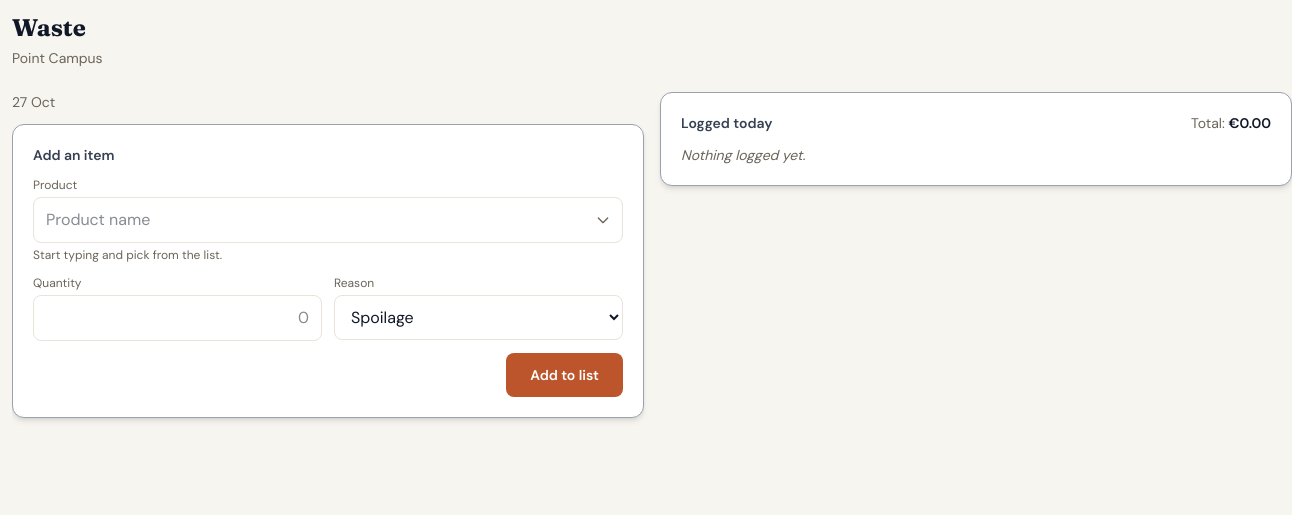
Test: an employee logging a MIX › says an ingredient cannot be costed when that is what is missing
Type "House Salsa" into the dropdown with placeholder "Product name" at point(328, 220), box [33,197,623,243]
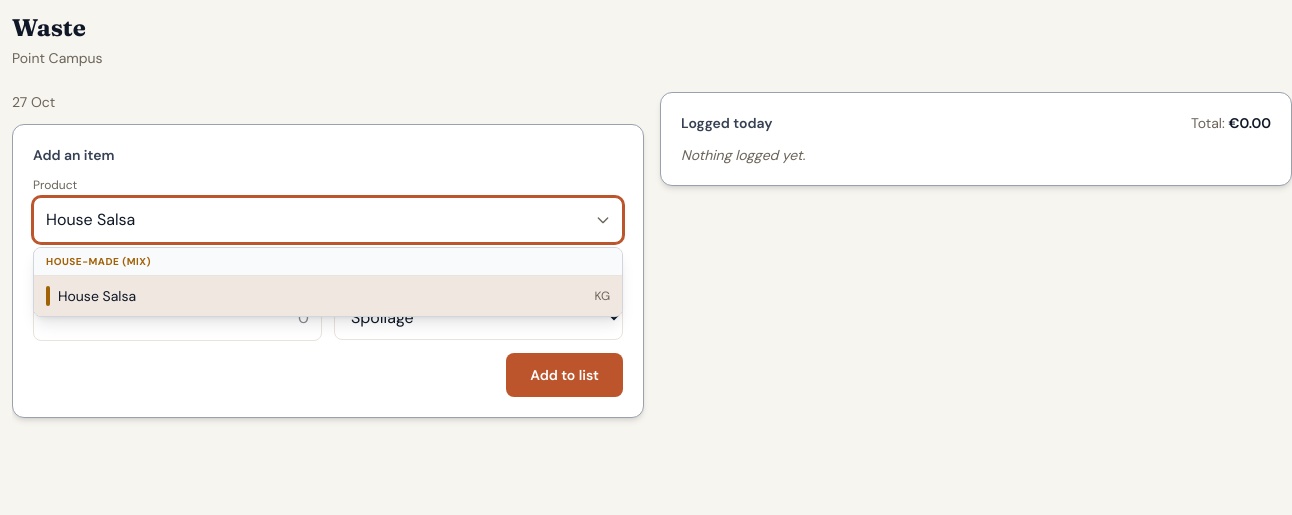
Click the option "House Salsa KG" at point(97, 296), box [34,276,622,316]
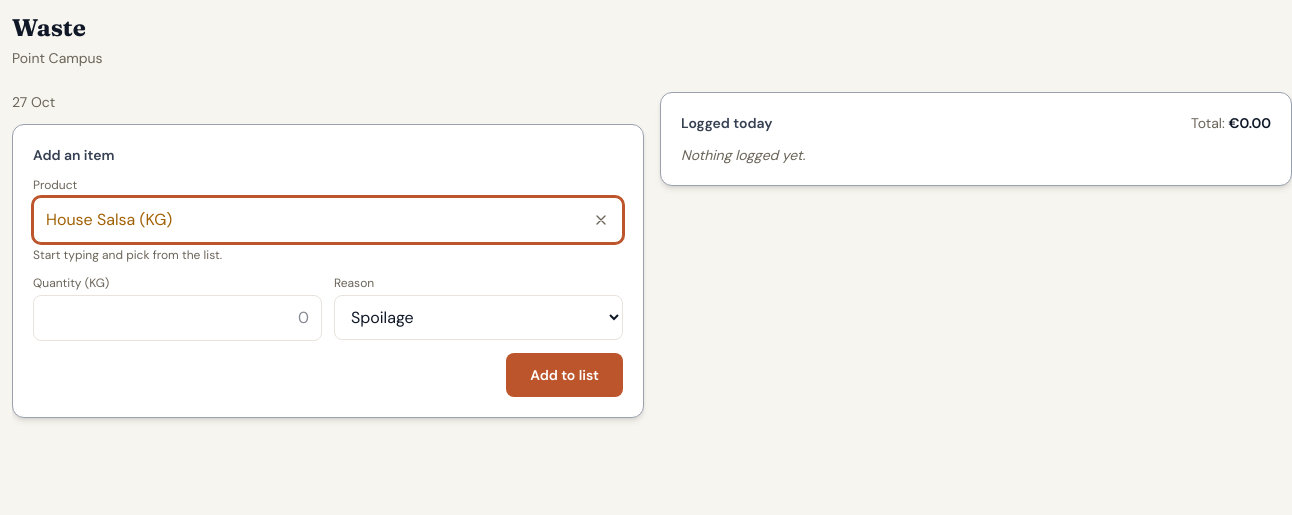
Type "2" into the field with placeholder "0" at point(178, 318), box [33,295,322,341]
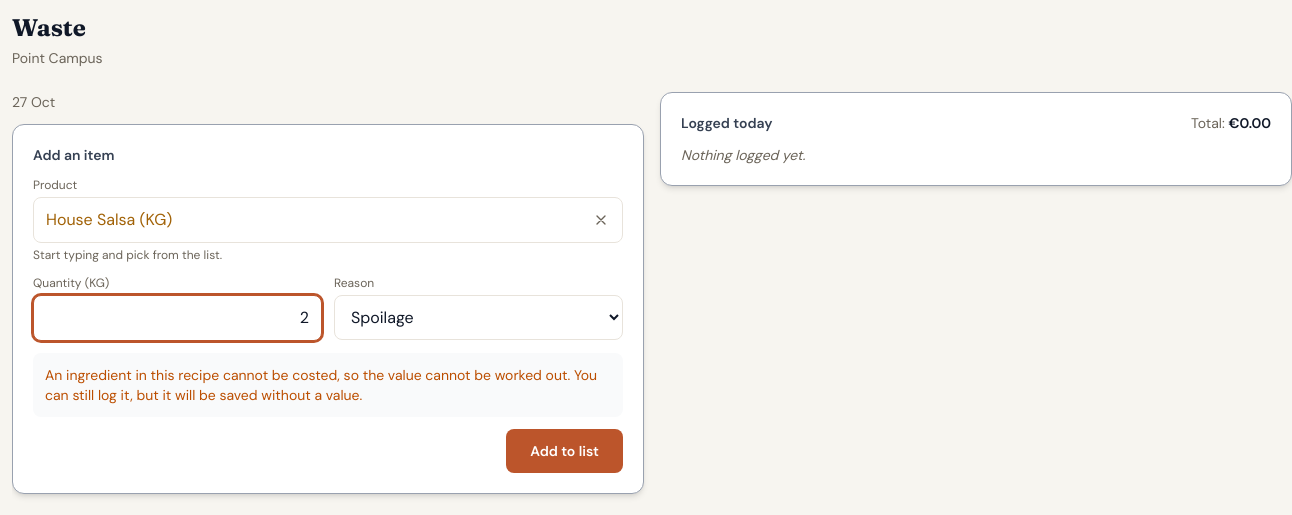
Result: the text "An ingredient in this recipe cannot be costed" is shown at [45,366,597,404]
